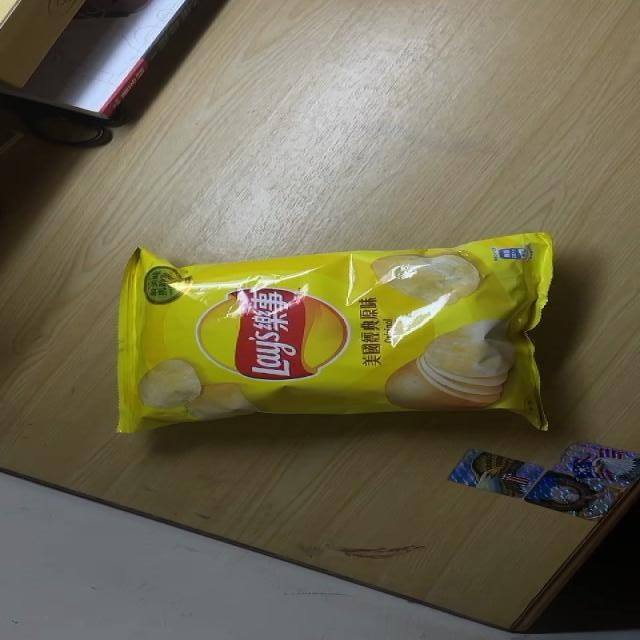Lay-s-original: (113, 230, 552, 431)
